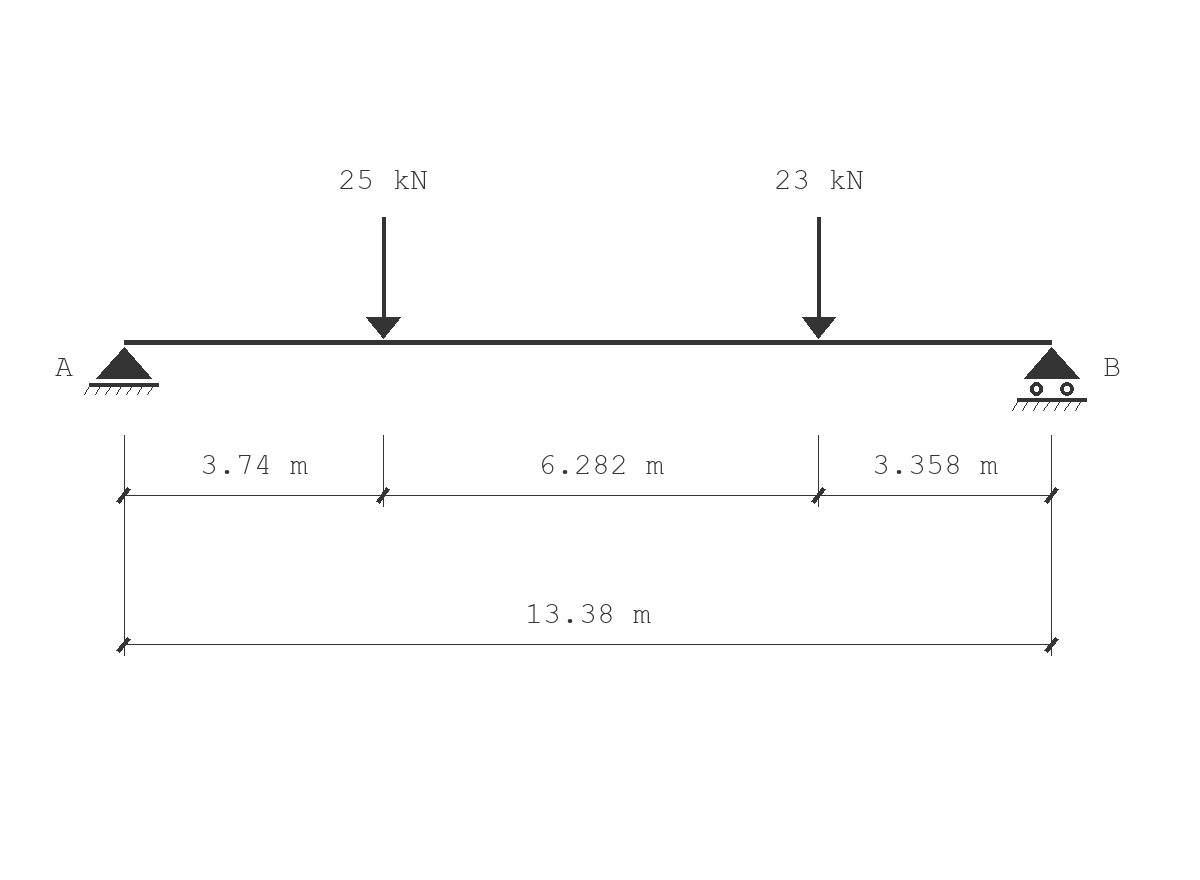pin_support: (84, 347, 159, 395)
point_load: (366, 217, 401, 339), (802, 217, 836, 339)
roller_support: (1012, 347, 1087, 411)
